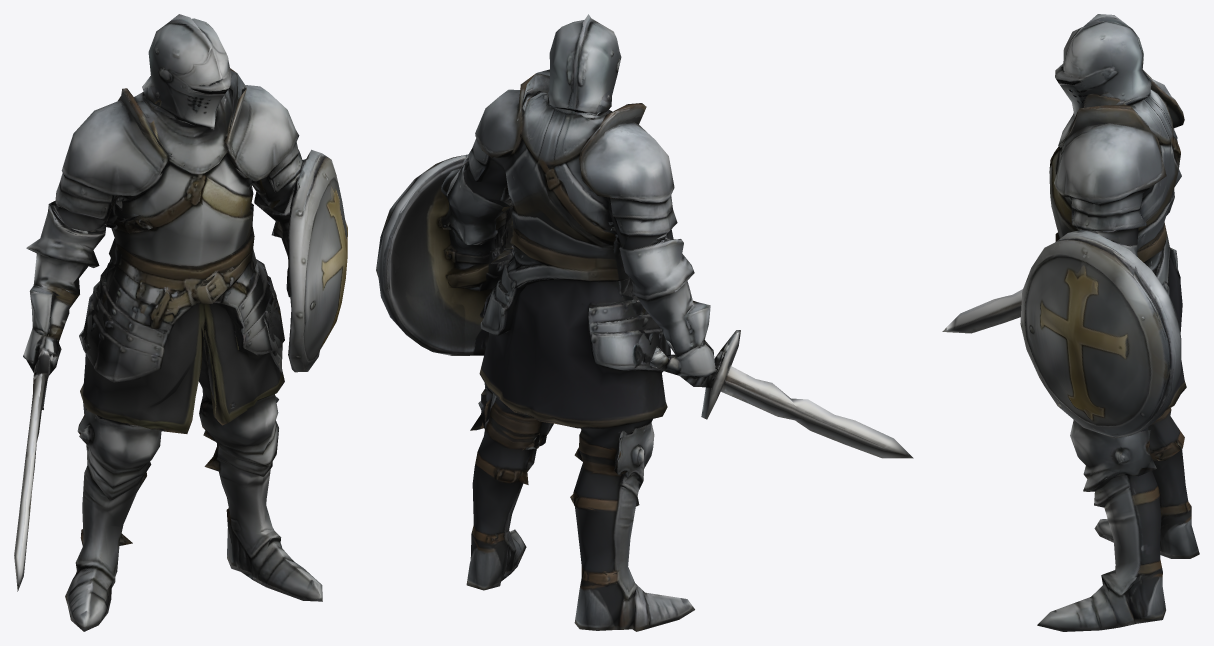
File: Knight_s_Vigil_1209200808_texture.fbx
The picture shows the model from 3 angles, left to right: view 1: azimuth 30°, elevation 25°; view 2: azimuth 150°, elevation 25°; view 3: azimuth 270°, elevation 25°; orthographic projection. The views are drawn at different scales.
Visible parts, largest first — view 1: Mesh1.0; view 2: Mesh1.0; view 3: Mesh1.0.
Part boxes in pixels (x1,y1,x2,y2): Mesh1.0: (14,14,347,631); Mesh1.0: (376,14,913,631); Mesh1.0: (942,14,1199,631).
Size of the model in its own units: 149 by 192 by 79.3.
Materials: 1 (1 with a texture image).
